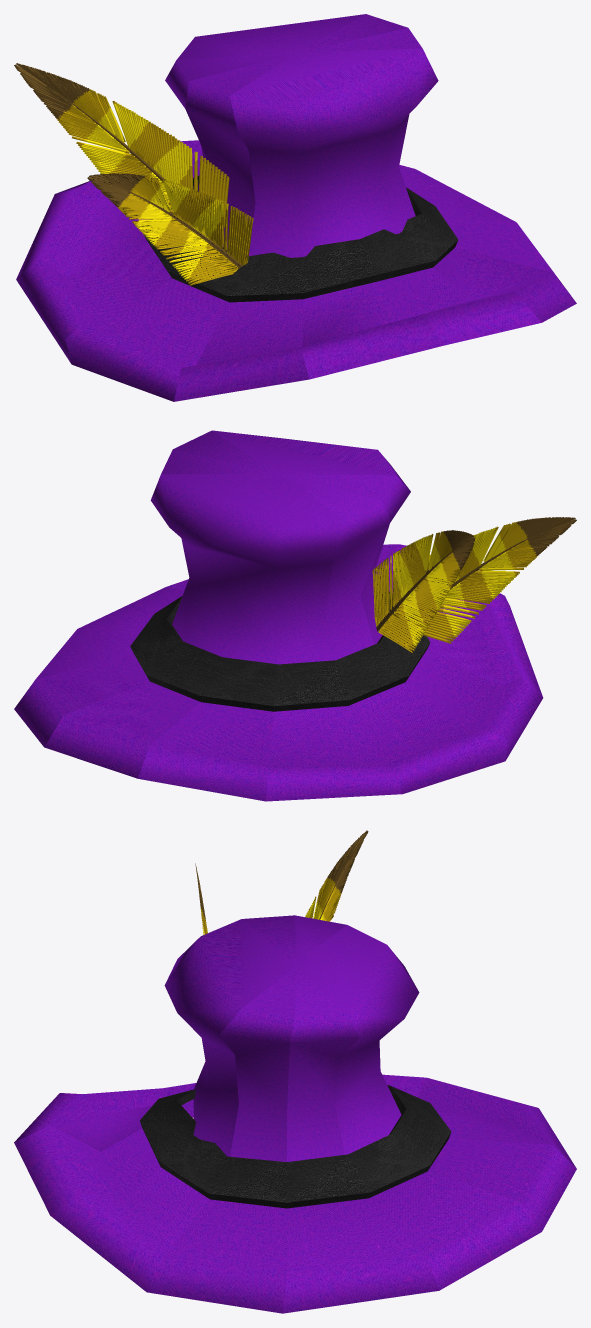
Rendered from Pimphat_final_budget.glb.
The picture shows the model from 3 angles, top to bottom: view 1: azimuth 30°, elevation 25°; view 2: azimuth 150°, elevation 25°; view 3: azimuth 270°, elevation 25°; orthographic projection. The views are drawn at different scales.
Visible parts, largest first — view 1: DIVA2:SOMBRERO:SOMBRERO:SOMBRERO:pCylinder1, DIVA2:SOMBRERO:SOMBRERO:SOMBRERO:prefix_featherExotic1Leaf, DIVA2:SOMBRERO:SOMBRERO:SOMBRERO:featherExotic1Leaf, DIVA2:SOMBRERO:SOMBRERO:SOMBRERO:featherExotic1Main; view 2: DIVA2:SOMBRERO:SOMBRERO:SOMBRERO:pCylinder1, DIVA2:SOMBRERO:SOMBRERO:SOMBRERO:prefix_featherExotic1Leaf, DIVA2:SOMBRERO:SOMBRERO:SOMBRERO:featherExotic1Leaf; view 3: DIVA2:SOMBRERO:SOMBRERO:SOMBRERO:pCylinder1, DIVA2:SOMBRERO:SOMBRERO:SOMBRERO:prefix_featherExotic1Leaf.
Part boxes in pixels (<box>): DIVA2:SOMBRERO:SOMBRERO:SOMBRERO:pCylinder1: <box>16,14,576,401</box>; DIVA2:SOMBRERO:SOMBRERO:SOMBRERO:prefix_featherExotic1Leaf: <box>14,63,229,227</box>; DIVA2:SOMBRERO:SOMBRERO:SOMBRERO:featherExotic1Leaf: <box>87,173,253,285</box>; DIVA2:SOMBRERO:SOMBRERO:SOMBRERO:featherExotic1Main: <box>113,185,242,268</box>; DIVA2:SOMBRERO:SOMBRERO:SOMBRERO:pCylinder1: <box>14,430,543,801</box>; DIVA2:SOMBRERO:SOMBRERO:SOMBRERO:prefix_featherExotic1Leaf: <box>372,530,475,653</box>; DIVA2:SOMBRERO:SOMBRERO:SOMBRERO:featherExotic1Leaf: <box>399,517,576,643</box>; DIVA2:SOMBRERO:SOMBRERO:SOMBRERO:pCylinder1: <box>14,915,576,1313</box>; DIVA2:SOMBRERO:SOMBRERO:SOMBRERO:prefix_featherExotic1Leaf: <box>305,830,368,921</box>.
Bounding box in the file's own units: 0.1872 × 0.0982 × 0.1922.
Materials: 6 (2 with a texture image).
